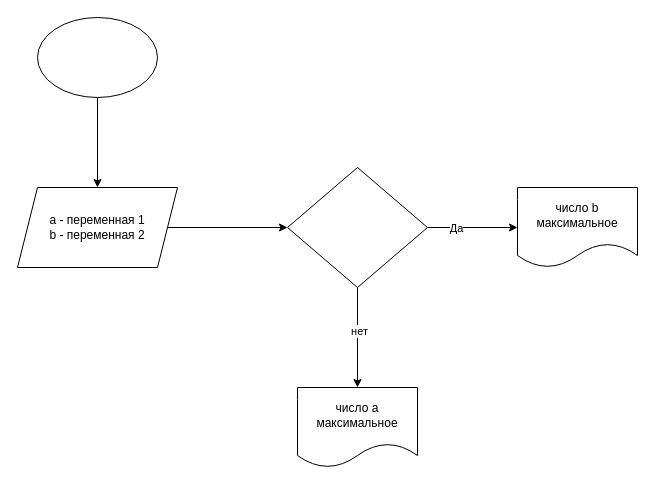
Image size: 655x485. Some labels were removed from this diagram. Here are the shapes that lost their labels. From the top down, the box of each, then its label:
(36, 16, 158, 98): Начало
(286, 166, 428, 288): a < b
